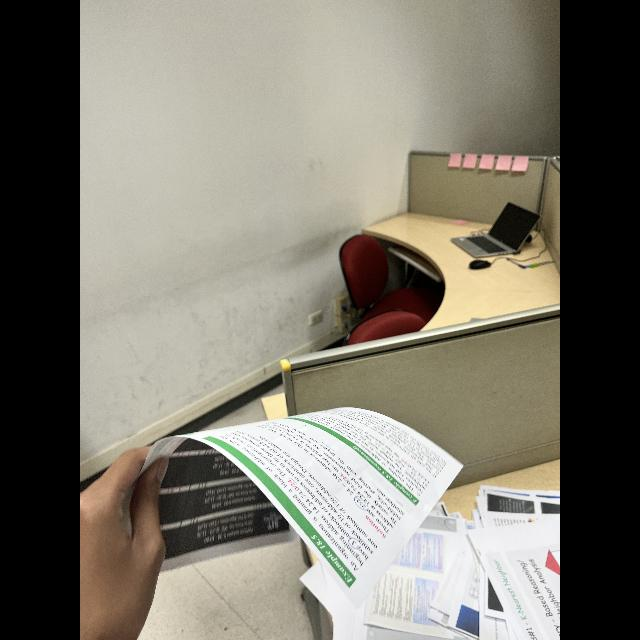reuseable_paper: (117, 405, 470, 593), (306, 482, 560, 640)
